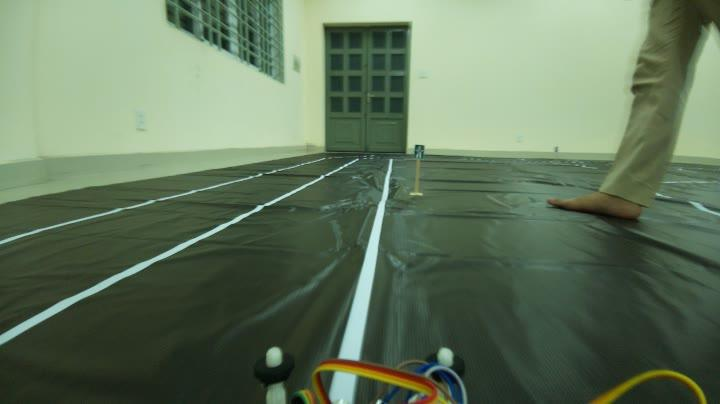highway_exit: (407, 138, 428, 164)
